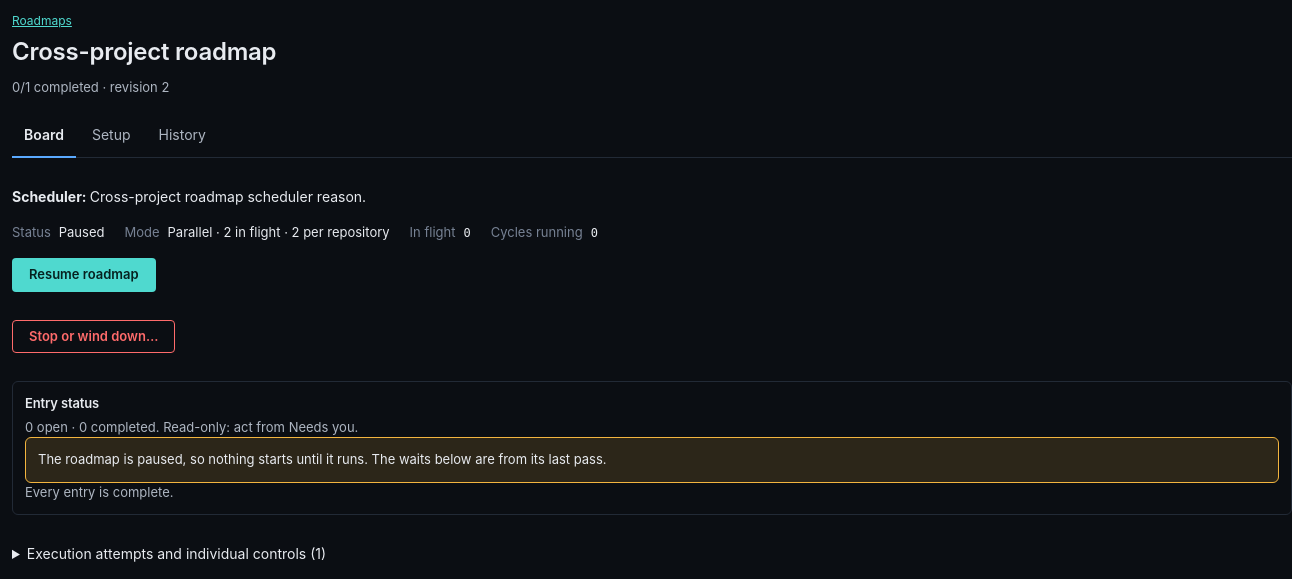
Test case: shows a command's returned roadmap at once, in the list every view shares (R-D4 review M27)
This screenshot has width=1292, height=579.
Click the button "Resume roadmap": (84, 275) [12, 258, 156, 292]
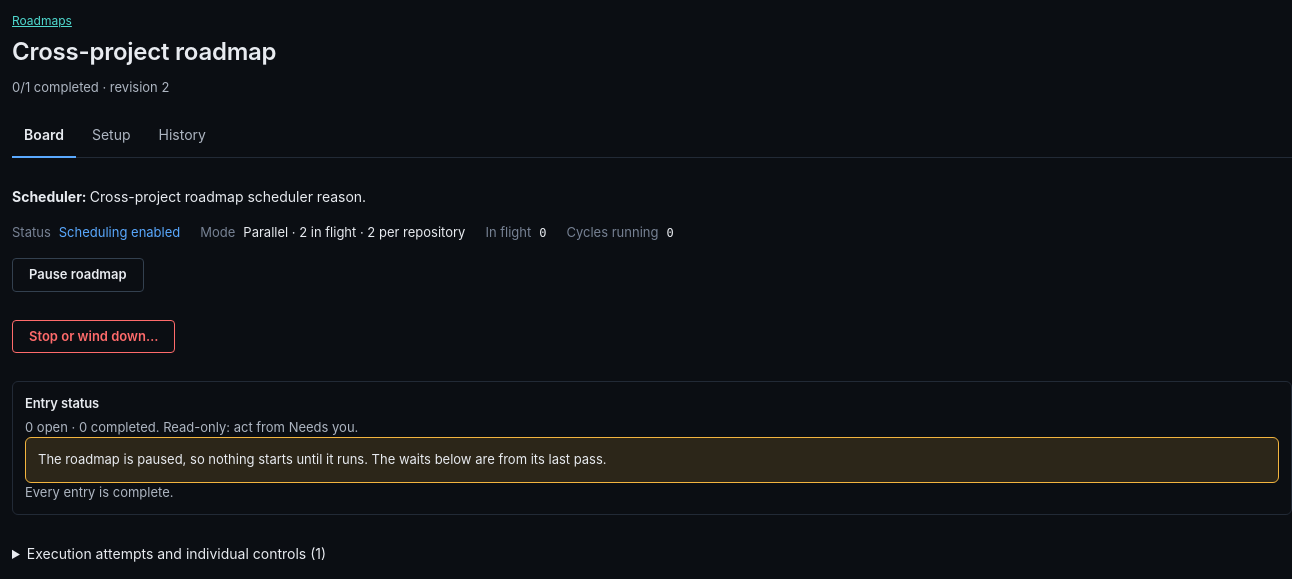
Check: the button "Pause roadmap" is shown, box [12, 258, 144, 292]
Check: the button "Resume roadmap" is gone
